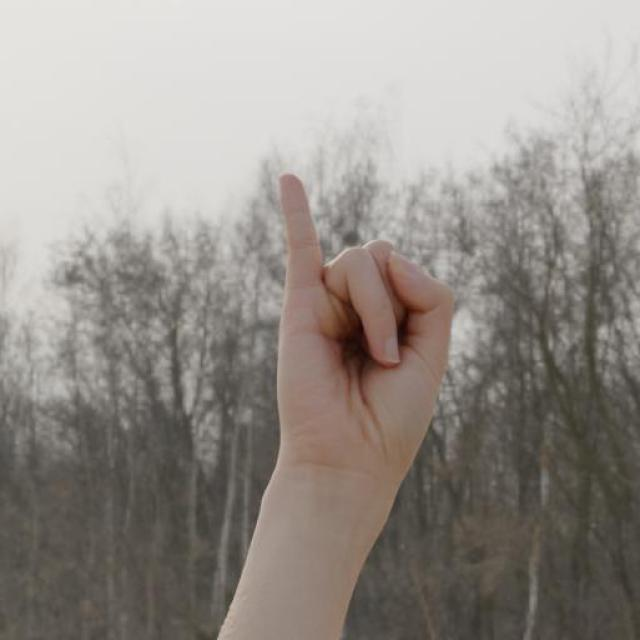I: (236, 150, 510, 550)
